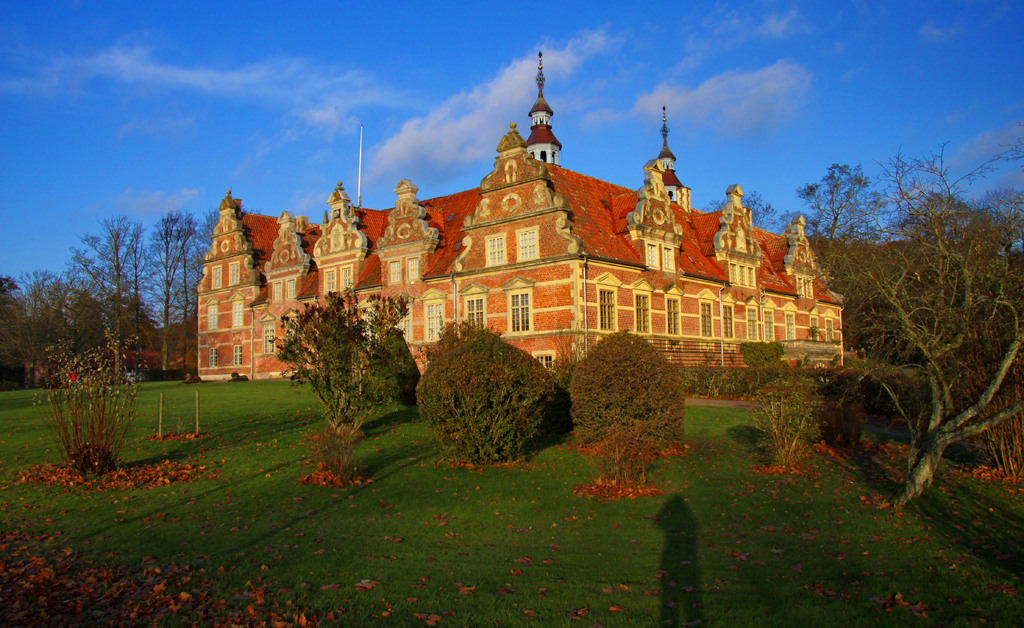Tree: (830, 133, 1008, 498), (0, 198, 220, 483), (267, 283, 403, 447), (416, 320, 572, 455), (563, 336, 695, 487), (742, 368, 844, 487), (359, 311, 432, 410), (731, 333, 787, 380)
